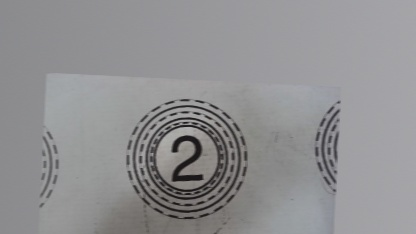2r: (120, 97, 249, 222)
